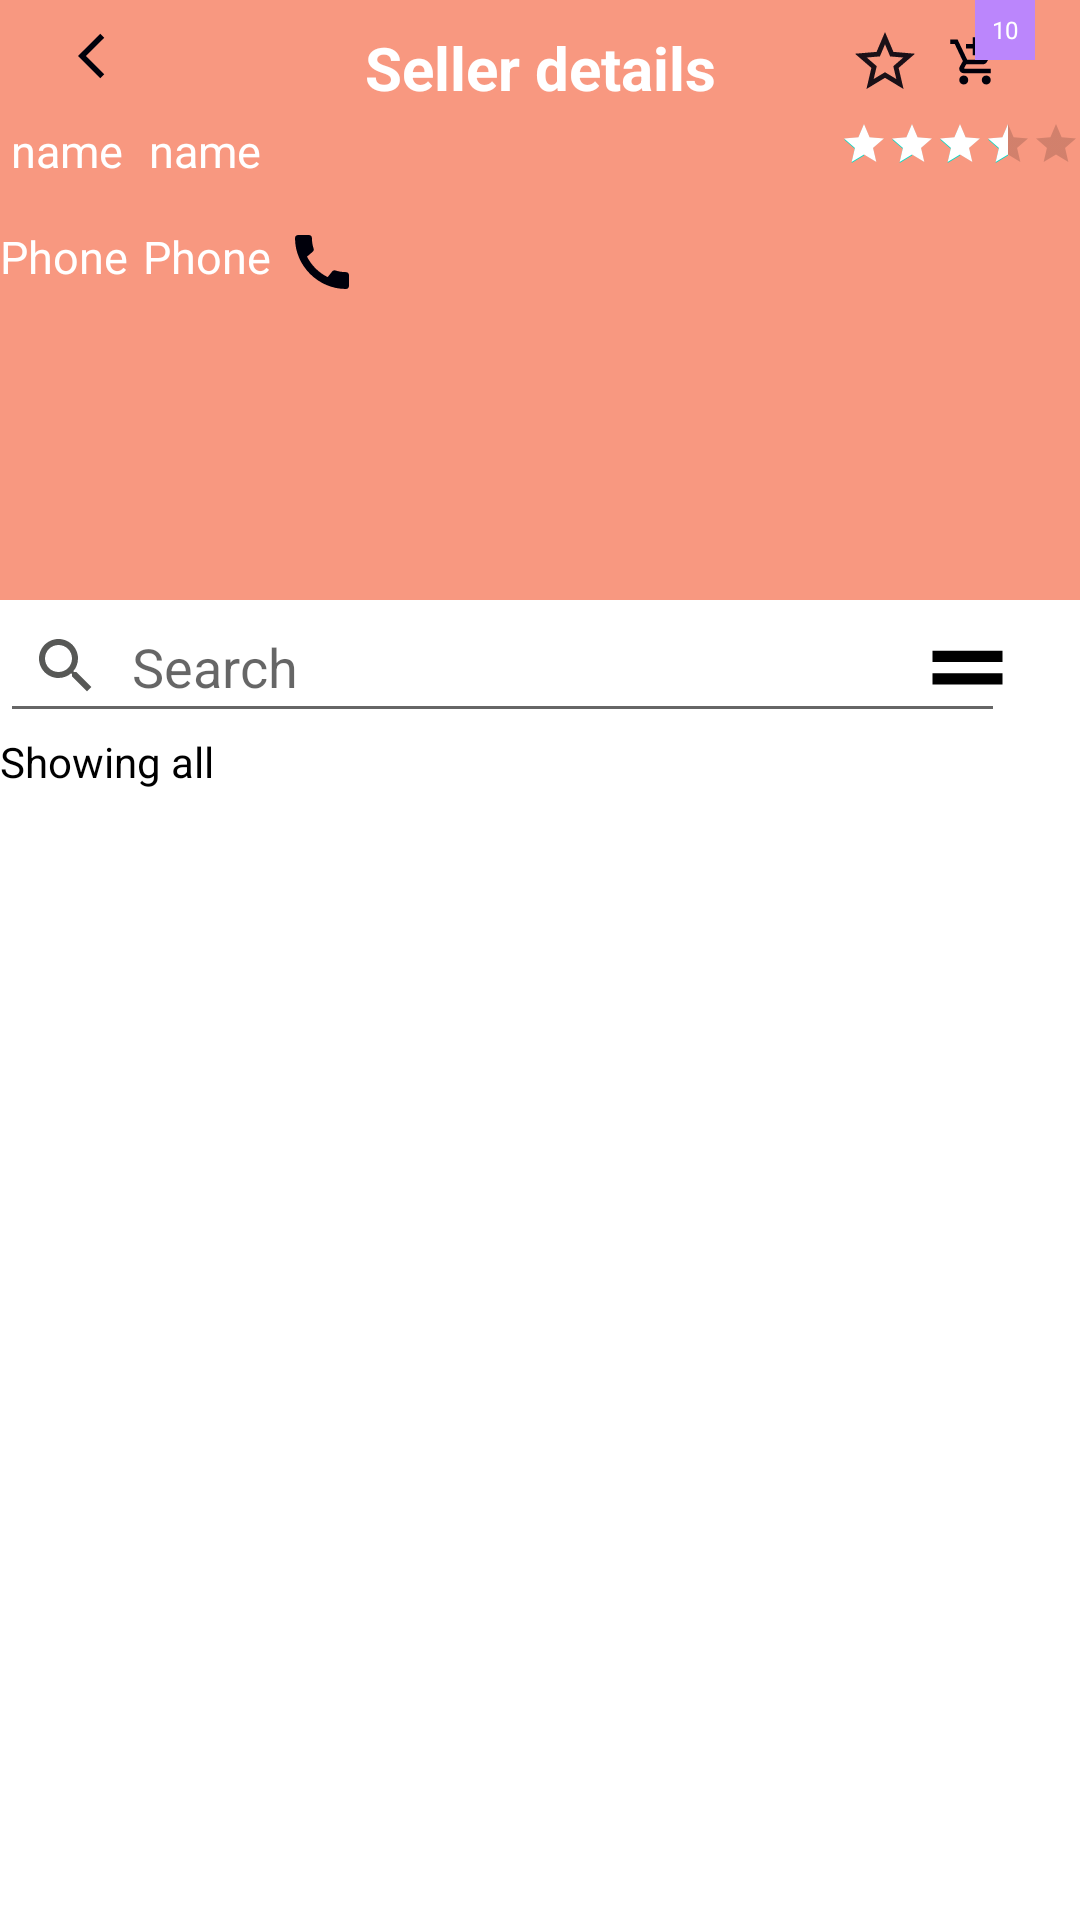

Where icons sit on this 1080 × 1920 app screen, as region(x1, y1, x2, y2):
back: region(78, 34, 104, 78)
basiline call: region(295, 235, 349, 289)
drag handle: region(932, 650, 1003, 685)
star: region(855, 32, 915, 89)
